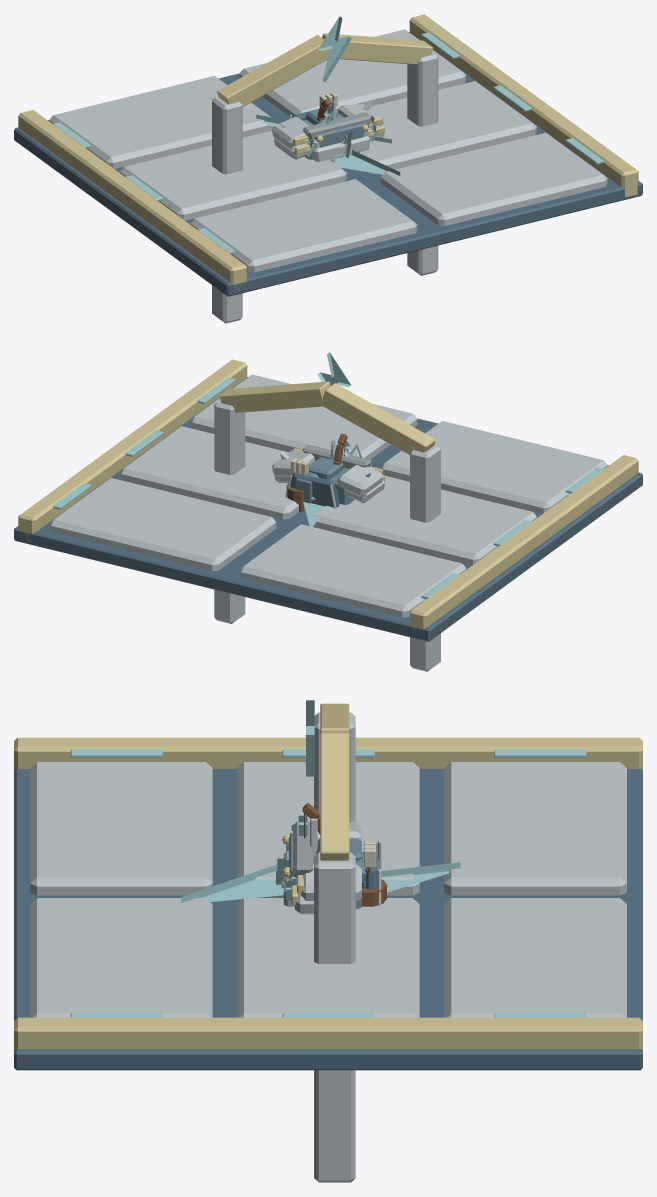
The model's file is KingdomsPremiumStorm.glb.
3 renders of one model, top to bottom at view 1: azimuth 30°, elevation 25°; view 2: azimuth 150°, elevation 25°; view 3: azimuth 270°, elevation 25°, orthographic. The views are drawn at different scales.
Parts seen in each view (by area): view 1: Storm_RoadTile, Storm_Gateway, Storm_Archer_Torso, Storm_Defender_Torso, Storm_Defender_LeftArm; view 2: Storm_RoadTile, Storm_Gateway, Storm_Defender_Torso, Storm_Defender_LeftArm, Storm_Archer_Torso, Storm_Defender_LeftLeg; view 3: Storm_RoadTile, Storm_Gateway, Storm_Archer_Torso, Storm_Defender_Torso, Storm_Defender_LeftArm.
Boxes of the visible parts, left/top/right/bottom form: Storm_RoadTile: left=14, top=14, right=642, bottom=296; Storm_Gateway: left=212, top=16, right=438, bottom=323; Storm_Archer_Torso: left=274, top=92, right=384, bottom=161; Storm_Defender_Torso: left=272, top=104, right=383, bottom=162; Storm_Defender_LeftArm: left=303, top=108, right=371, bottom=153; Storm_RoadTile: left=14, top=359, right=642, bottom=641; Storm_Gateway: left=214, top=352, right=440, bottom=671; Storm_Defender_Torso: left=272, top=444, right=383, bottom=509; Storm_Defender_LeftArm: left=296, top=444, right=371, bottom=511; Storm_Archer_Torso: left=274, top=458, right=384, bottom=511; Storm_Defender_LeftLeg: left=309, top=457, right=343, bottom=480; Storm_RoadTile: left=14, top=737, right=642, bottom=1070; Storm_Gateway: left=306, top=700, right=355, bottom=1182; Storm_Archer_Torso: left=276, top=840, right=386, bottom=914; Storm_Defender_Torso: left=275, top=822, right=381, bottom=908; Storm_Defender_LeftArm: left=277, top=821, right=379, bottom=884.
Size of the model in its own units: 4.6 by 2.97 by 4.1.
